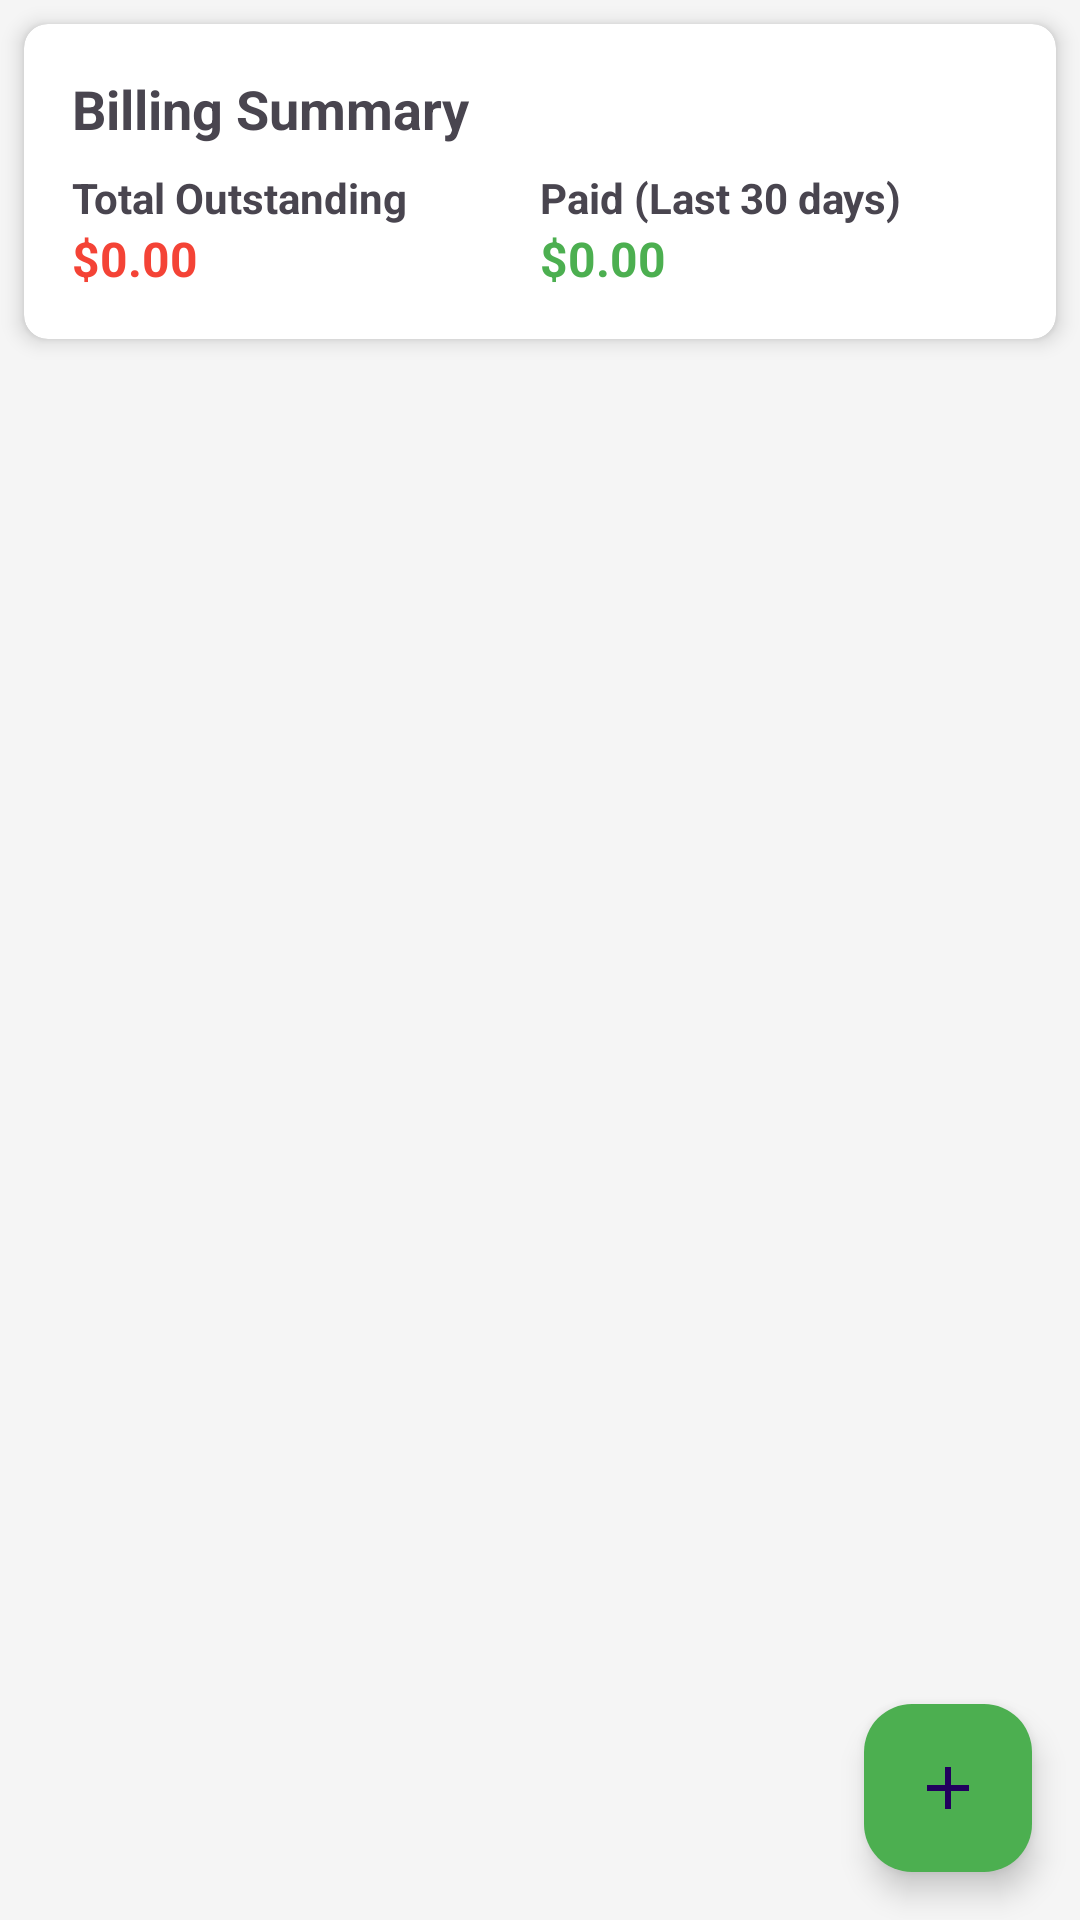

Named icons in this screenshot (1080 × 1920) and their bounding boxes, (left=x1, top=y1, right=x2, bottom=y2):
Add new bill: (left=864, top=1704, right=1032, bottom=1872)
